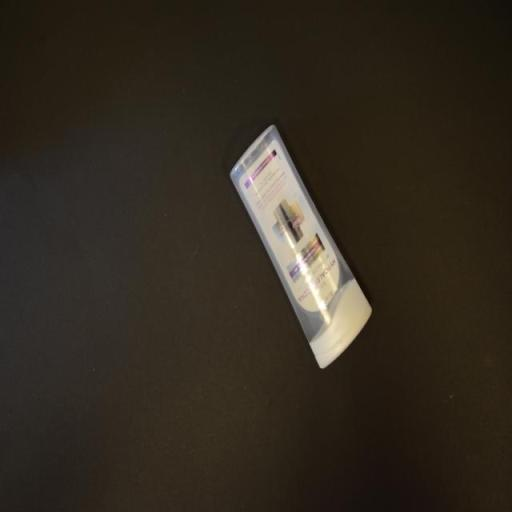plastic: (230, 123, 374, 376)
